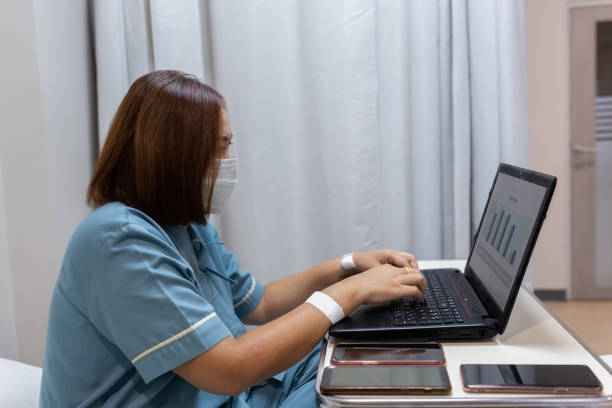computer: (326, 164, 556, 337)
staff: (42, 61, 430, 408)
